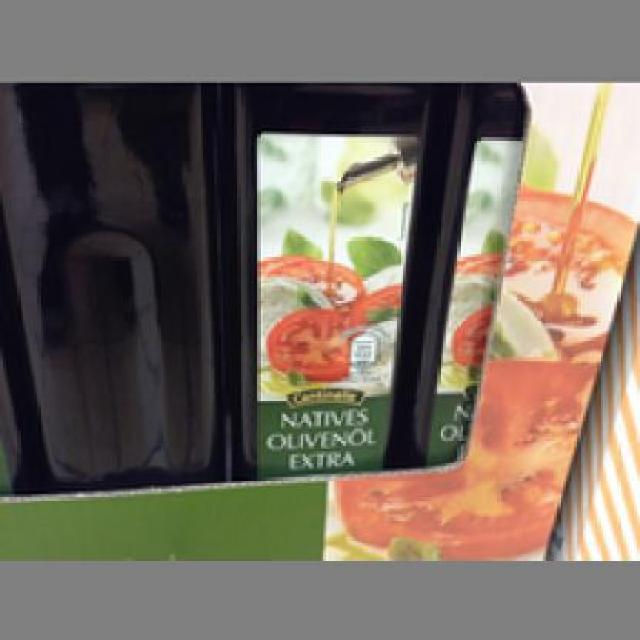Oil: (219, 79, 432, 472)
